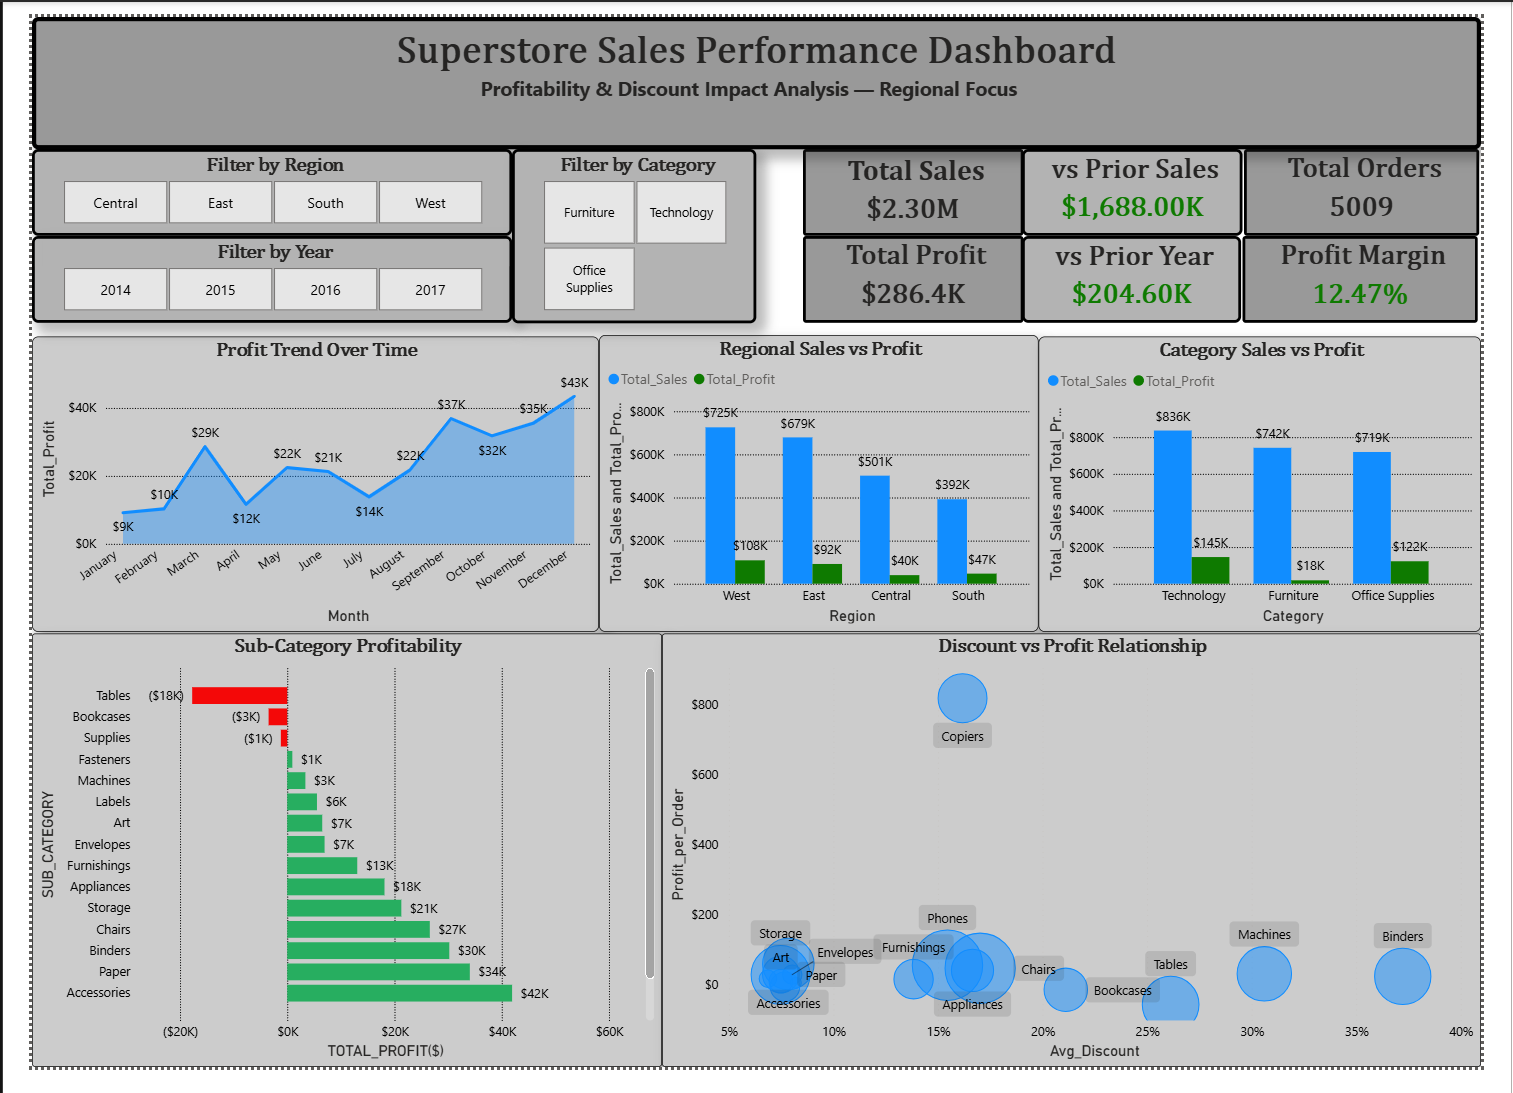

Layout of this report page (visuals, bound fields, positions):
{"tool":"powerbi","page":{"name":"Page 1","canvas":[1380,1000],"ordinal":0},"visuals":[{"type":"card","title":"Total Sales","fields":{"Values":["superstore_analysis superstore.Total_Sales"]},"box":[734.3,125.7,210,82.9],"z":0},{"type":"card","title":"Total Profit","fields":{"Values":["superstore_analysis superstore.Total_Profit"]},"box":[734.3,208.6,210,82.9],"z":1000},{"type":"card","title":"Total Orders","fields":{"Values":["superstore_analysis superstore.Total_Order"]},"box":[1154.3,125.7,224.3,82.9],"z":2000},{"type":"card","title":"Profit Margin","fields":{"Values":["superstore_analysis superstore.Profit_Margin"]},"box":[1152.9,208.6,224.3,82.9],"z":3000},{"type":"textbox","box":[0,0,1380,125.7],"z":4000},{"type":"lineChart","title":"Profit Trend Over Time","fields":{"Category":["superstore_analysis superstore.order_date.Variation.Date Hierarchy.Month"],"Y":["superstore_analysis superstore.Total_Profit"]},"box":[0,304.3,540,281.4],"z":5000},{"type":"clusteredColumnChart","title":"Regional Sales vs Profit","fields":{"Category":["superstore_analysis superstore.region"],"Y":["superstore_analysis superstore.Total_Sales","superstore_analysis superstore.Total_Profit"]},"box":[540,302.9,418.6,282.9],"z":6000},{"type":"clusteredColumnChart","title":"Category Sales vs Profit","fields":{"Category":["superstore_analysis superstore.category"],"Y":["superstore_analysis superstore.Total_Sales","superstore_analysis superstore.Total_Profit"]},"box":[958.6,304.3,421.4,281.4],"z":7000},{"type":"barChart","title":"Sub-Category Profitability","fields":{"Category":["superstore_analysis superstore.sub_category"],"Y":["superstore_analysis superstore.Total_Profit"]},"box":[0,587.1,600,412.9],"z":8000},{"type":"scatterChart","title":"Discount vs Profit Relationship","fields":{"Y":["superstore_analysis superstore.Profit_per_Order"],"Size":["superstore_analysis superstore.Total_Sales"],"Category":["superstore_analysis superstore.sub_category"],"X":["superstore_analysis superstore.Avg_Discount"]},"box":[600,587.1,780,412.9],"z":9000},{"type":"card","title":"vs Prior Year","fields":{"Values":["superstore_analysis superstore.Profit_YoY"]},"box":[942.9,208.6,208.6,82.9],"z":11000},{"type":"card","title":"vs Prior Sales","fields":{"Values":["superstore_analysis superstore.Sales_YoY"]},"box":[942.9,125.7,210,82.9],"z":12000},{"type":"slicer","title":"Filter by Region","fields":{"Values":["superstore_analysis superstore.region"]},"box":[0,125.7,457.1,82.9],"z":13000},{"type":"slicer","title":"Filter by Year","fields":{"Values":["superstore_analysis superstore.year"]},"box":[0,208.6,457.1,82.9],"z":14000},{"type":"slicer","title":"Filter by Category","fields":{"Values":["superstore_analysis superstore.category"]},"box":[457.1,125.7,232.9,165.7],"z":15000}]}

Visuals, with their boxes in screenshot pixels (x1, y1, x2, y2), scaled from the page's 1380x1000 canvas onto the 1513x1093 screenshot:
"Total Sales" card: x1=805, y1=137, x2=1035, y2=228
"Total Profit" card: x1=805, y1=228, x2=1035, y2=319
"Total Orders" card: x1=1266, y1=137, x2=1511, y2=228
"Profit Margin" card: x1=1264, y1=228, x2=1510, y2=319
textbox: x1=0, y1=0, x2=1512, y2=137
"Profit Trend Over Time" lineChart: x1=0, y1=333, x2=592, y2=640
"Regional Sales vs Profit" clusteredColumnChart: x1=592, y1=331, x2=1051, y2=640
"Category Sales vs Profit" clusteredColumnChart: x1=1051, y1=333, x2=1512, y2=640
"Sub-Category Profitability" barChart: x1=0, y1=642, x2=658, y2=1092
"Discount vs Profit Relationship" scatterChart: x1=658, y1=642, x2=1512, y2=1092
"vs Prior Year" card: x1=1034, y1=228, x2=1262, y2=319
"vs Prior Sales" card: x1=1034, y1=137, x2=1264, y2=228
"Filter by Region" slicer: x1=0, y1=137, x2=501, y2=228
"Filter by Year" slicer: x1=0, y1=228, x2=501, y2=319
"Filter by Category" slicer: x1=501, y1=137, x2=756, y2=319
